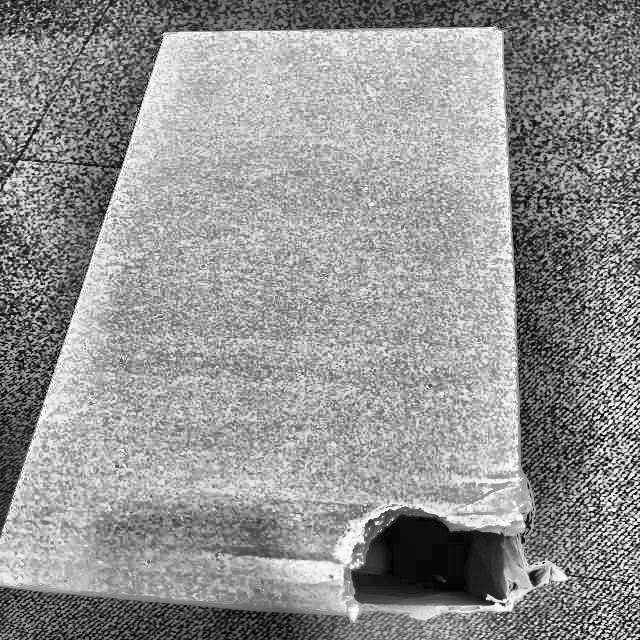box: (0, 23, 572, 631)
hole: (325, 503, 527, 623)
